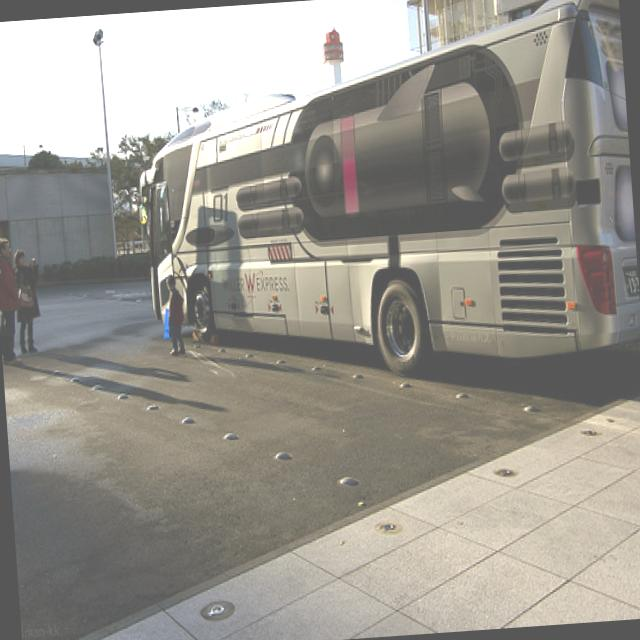Vehicle: (130, 0, 640, 387)
